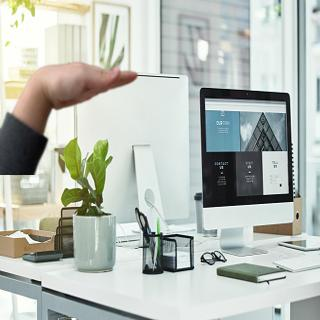Wait: (16, 57, 141, 116)
